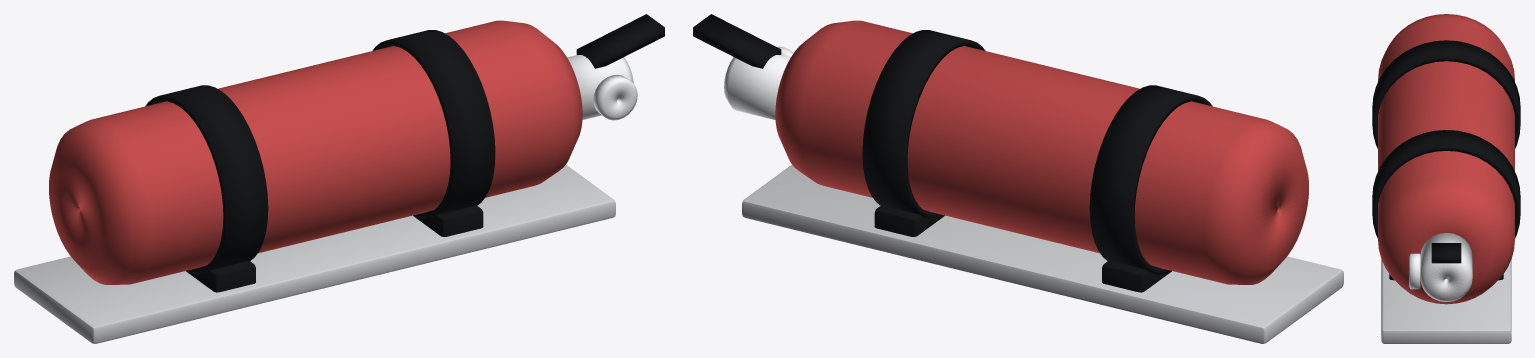
The model's file is FX01_fire_extinguisher.glb.
3 views of the same model, side by side, from view 1: azimuth 30°, elevation 25°; view 2: azimuth 150°, elevation 25°; view 3: azimuth 270°, elevation 25° (orthographic). The views are drawn at different scales.
Visible parts, largest first — view 1: MOD_NA_FX01_body, MOD_NA_FX01_bracket, MOD_NA_FX01_strap_0, MOD_NA_FX01_strap_1, MOD_NA_FX01_handle, MOD_NA_FX01_valve, MOD_NA_FX01_gauge, MOD_NA_FX01_post_200, MOD_NA_FX01_post_70; view 2: MOD_NA_FX01_body, MOD_NA_FX01_bracket, MOD_NA_FX01_strap_0, MOD_NA_FX01_strap_1, MOD_NA_FX01_valve, MOD_NA_FX01_handle, MOD_NA_FX01_post_200, MOD_NA_FX01_post_70; view 3: MOD_NA_FX01_body, MOD_NA_FX01_bracket, MOD_NA_FX01_strap_1, MOD_NA_FX01_strap_0, MOD_NA_FX01_valve, MOD_NA_FX01_handle, MOD_NA_FX01_gauge.
Boxes of the visible parts, <box> form: MOD_NA_FX01_body: <box>49,20,582,284</box>; MOD_NA_FX01_bracket: <box>14,165,615,343</box>; MOD_NA_FX01_strap_0: <box>145,85,268,274</box>; MOD_NA_FX01_strap_1: <box>372,30,495,218</box>; MOD_NA_FX01_handle: <box>576,14,664,68</box>; MOD_NA_FX01_valve: <box>567,55,633,119</box>; MOD_NA_FX01_gauge: <box>593,74,637,120</box>; MOD_NA_FX01_post_200: <box>415,205,483,236</box>; MOD_NA_FX01_post_70: <box>188,261,255,292</box>; MOD_NA_FX01_body: <box>775,20,1308,284</box>; MOD_NA_FX01_bracket: <box>742,165,1343,343</box>; MOD_NA_FX01_strap_0: <box>1089,85,1212,274</box>; MOD_NA_FX01_strap_1: <box>862,30,985,217</box>; MOD_NA_FX01_valve: <box>724,55,790,119</box>; MOD_NA_FX01_handle: <box>693,14,781,68</box>; MOD_NA_FX01_post_200: <box>874,205,944,236</box>; MOD_NA_FX01_post_70: <box>1102,261,1169,292</box>; MOD_NA_FX01_body: <box>1378,14,1514,304</box>; MOD_NA_FX01_bracket: <box>1381,259,1511,343</box>; MOD_NA_FX01_strap_1: <box>1372,130,1520,238</box>; MOD_NA_FX01_strap_0: <box>1372,40,1520,148</box>; MOD_NA_FX01_valve: <box>1420,232,1472,301</box>; MOD_NA_FX01_handle: <box>1431,243,1461,263</box>; MOD_NA_FX01_gauge: <box>1409,253,1420,289</box>.
Size of the model in its own units: 0.345 by 0.1005 by 0.091.
